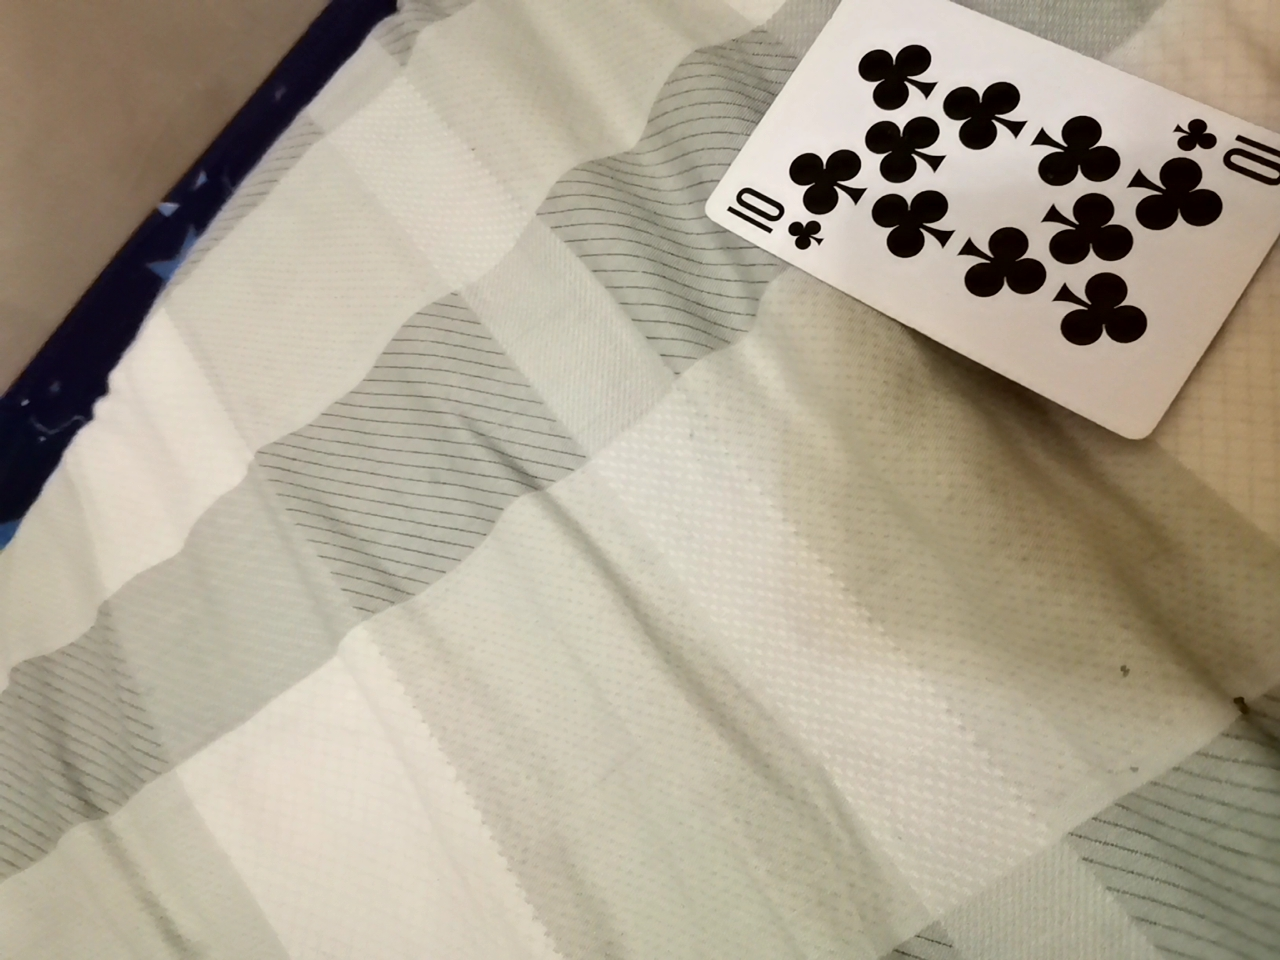mh 10: (697, 4, 1274, 431)
